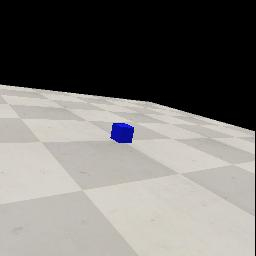box: (110, 123, 134, 143)
